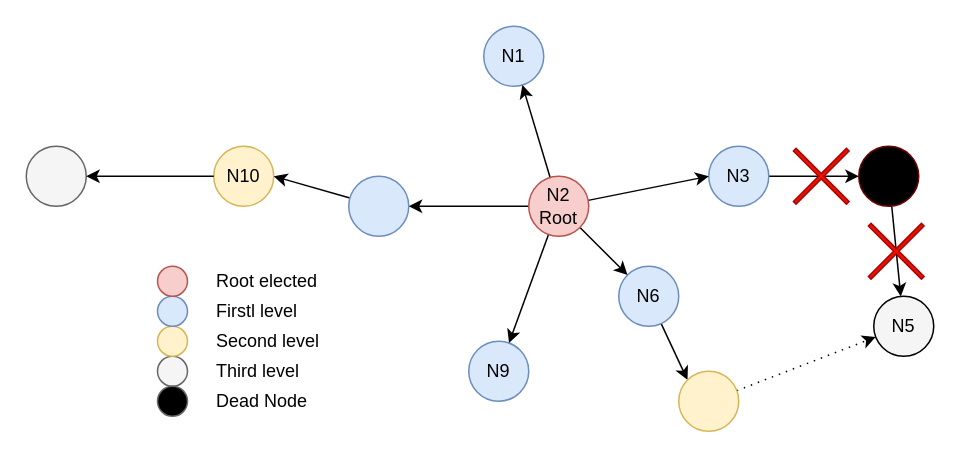
The diagram is 977 pixels wide and 458 high, and some of its shapes have lost their labels. Here are the shapes that lost their labels. From the top down, the centre of each, then its label:
At point (55, 175): "N11".
At point (888, 175): "N4".
At point (378, 205): "N8".
At point (708, 400): "N7".
